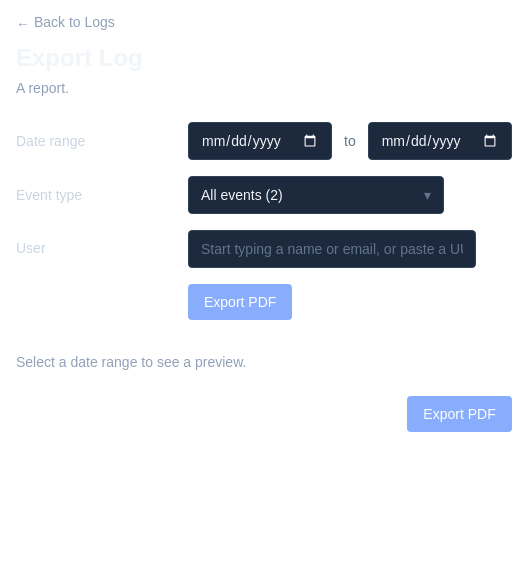
LogExportPage › shows an export failure and downloads nothing
The width and height of the screenshot is (529, 568).
In the 1st date field: (260, 141) [188, 122, 332, 160], type "2026-10-01"
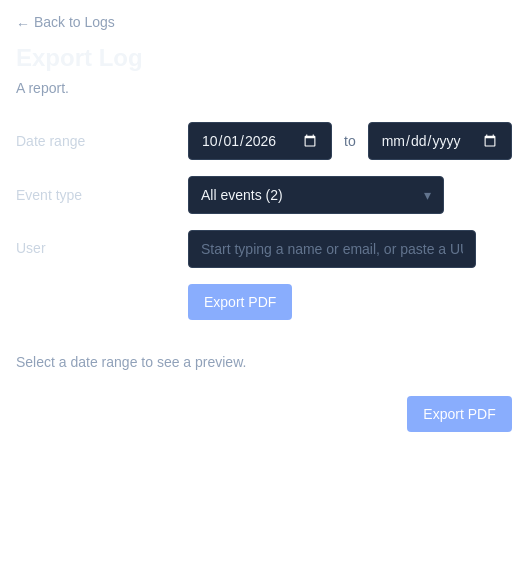
In the 2nd date field: (440, 141) [368, 122, 512, 160], type "2026-10-07"
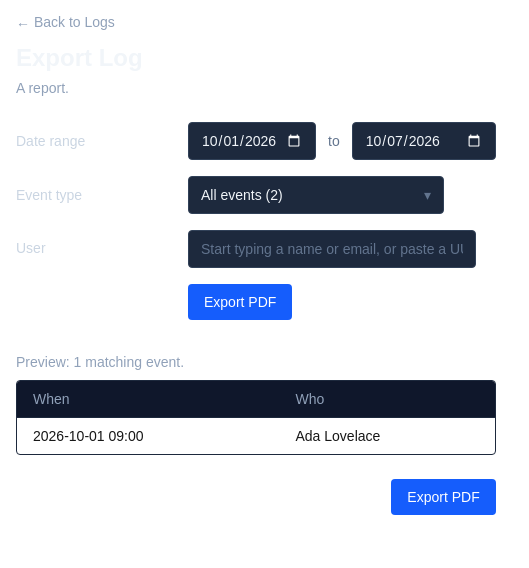
Expected: the text "Ada Lovelace" is shown, [280, 418, 495, 454]
Click the button "Export PDF" below "User": (240, 302) [188, 284, 292, 320]
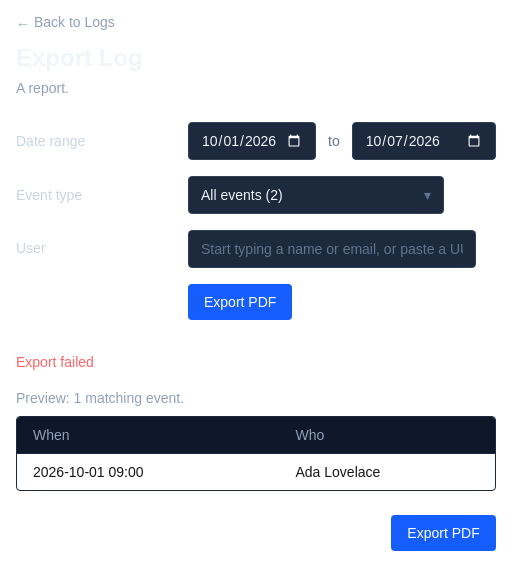
Expected: the text "Export failed" is shown, [16, 354, 94, 370]
